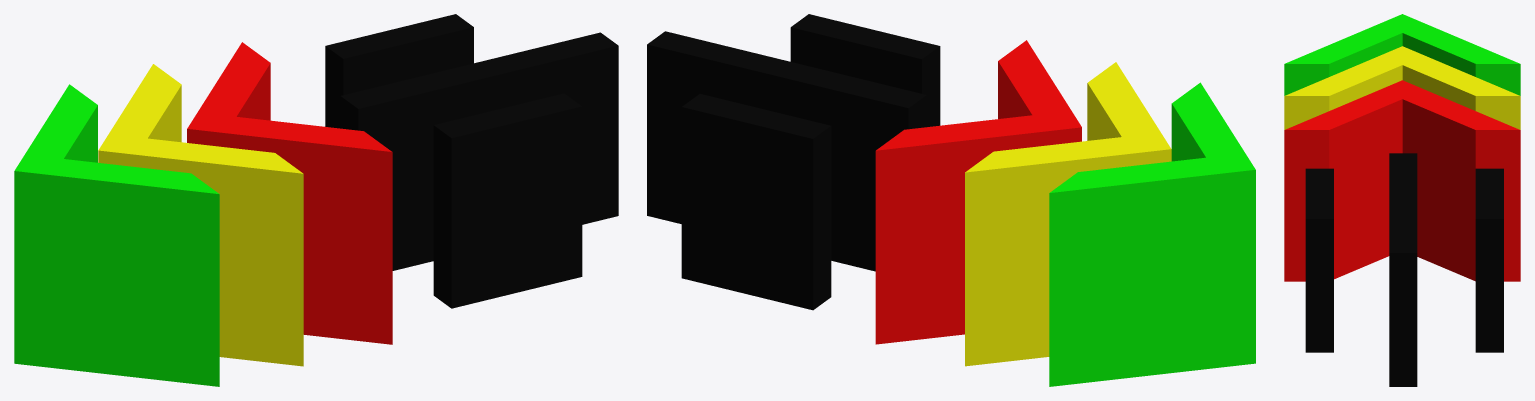
File: Speed_Icon_LitUp.fbx
3 views of the same model, side by side, from view 1: azimuth 30°, elevation 25°; view 2: azimuth 150°, elevation 25°; view 3: azimuth 270°, elevation 25° (orthographic). The views are drawn at different scales.
Parts seen in each view (by area): view 1: Light1; view 2: Light1; view 3: Light1.
Part boxes in pixels (left/top/right/bottom): Light1: left=14, top=14, right=618, bottom=386; Light1: left=647, top=14, right=1255, bottom=386; Light1: left=1284, top=14, right=1520, bottom=386.
Size of the model in its own units: 647 by 200 by 283.
